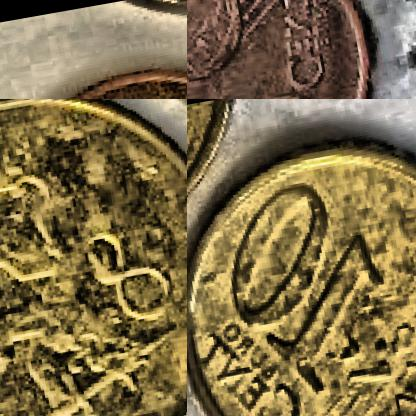coin: (187, 119, 415, 415), (0, 99, 186, 415), (187, 0, 407, 98), (0, 31, 186, 98)
